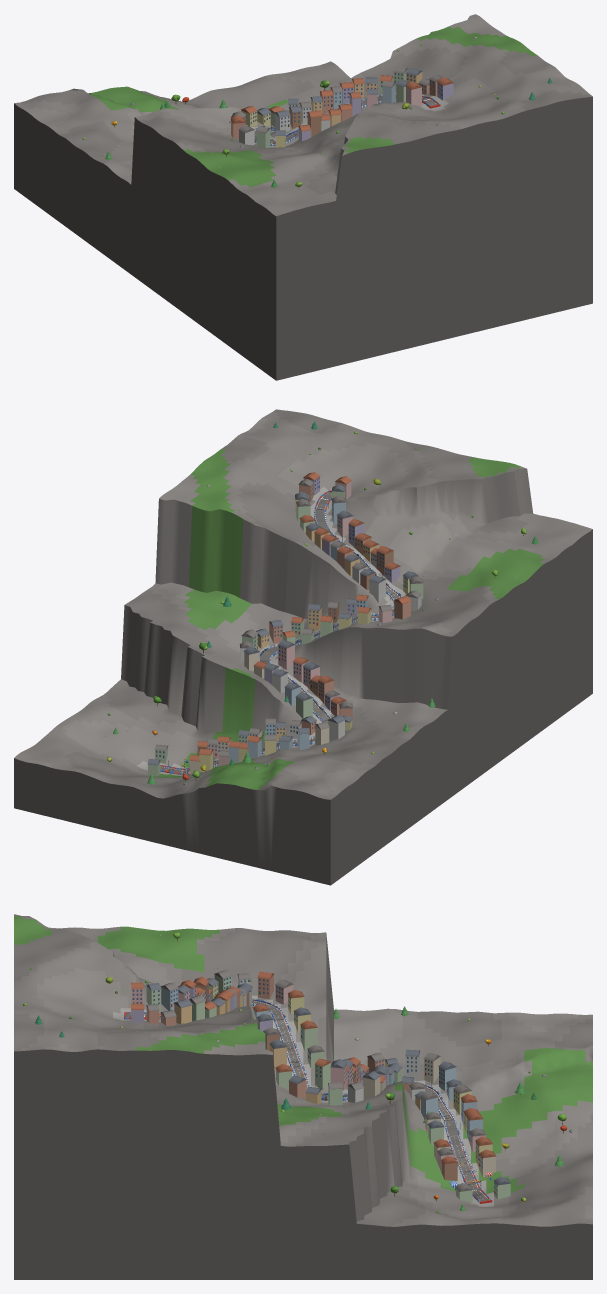
3 views of the same model, one above another, from view 1: azimuth 30°, elevation 25°; view 2: azimuth 150°, elevation 25°; view 3: azimuth 270°, elevation 25° (orthographic). The views are drawn at different scales.
Parts seen in each view (by area): view 1: grass, buildings; view 2: grass, buildings, road, hay; view 3: grass, buildings, road, hay, pines.
Boxes of the visible parts, x1,y1,x2,y2 form: grass: (14, 14, 592, 380); buildings: (230, 66, 453, 147); grass: (14, 409, 592, 885); buildings: (147, 472, 423, 776); road: (160, 492, 399, 772); hay: (160, 490, 401, 774); grass: (14, 914, 592, 1279); buildings: (131, 970, 510, 1202); road: (125, 1001, 488, 1201); hay: (124, 998, 492, 1203); pines: (35, 934, 564, 1211).
Bounding box in the file's own units: 265 × 173 × 380.
